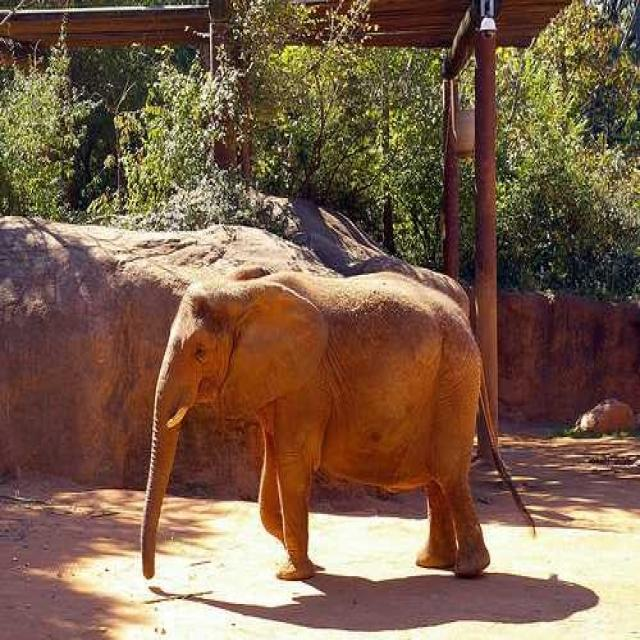Elephant: (139, 267, 536, 581)
